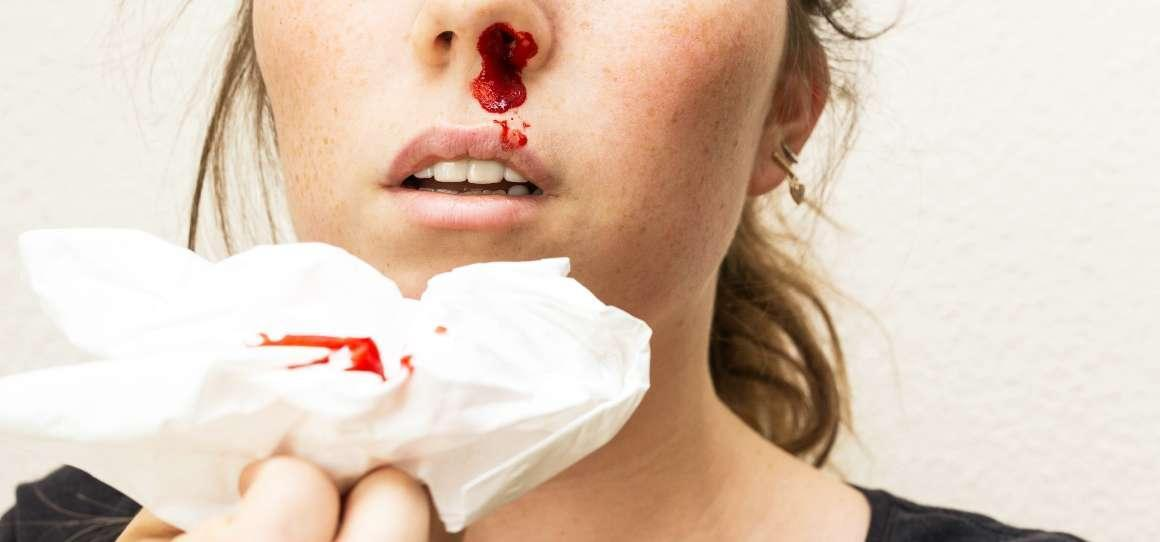Fire: (258, 332, 386, 380), (472, 21, 538, 112), (493, 109, 531, 148), (288, 354, 329, 368), (400, 354, 414, 374)
